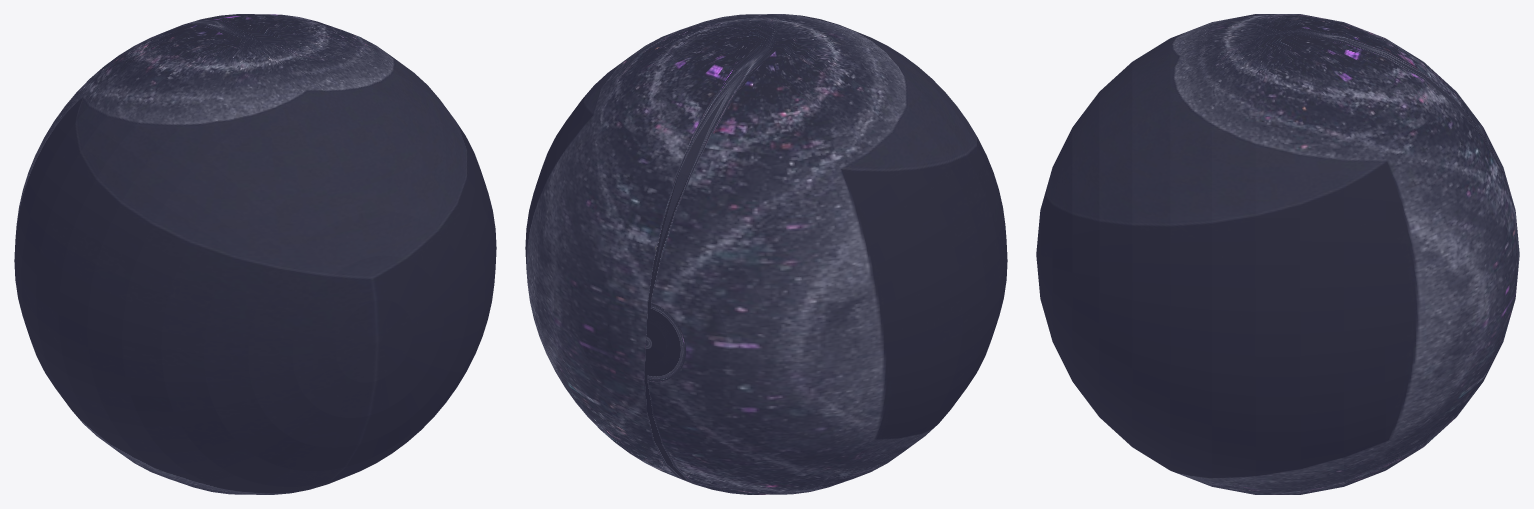
3 renders of one model, left to right at view 1: azimuth 30°, elevation 25°; view 2: azimuth 150°, elevation 25°; view 3: azimuth 270°, elevation 25°, orthographic.
Visible parts, largest first — view 1: geometry_0; view 2: geometry_0; view 3: geometry_0.
Part boxes in pixels (x1,y1,x2,y2): geometry_0: (14,14,496,494); geometry_0: (525,14,1007,494); geometry_0: (1036,14,1519,494).
Size of the model in its own units: 1.99 by 1.99 by 2.
1 material, 1 textured.
